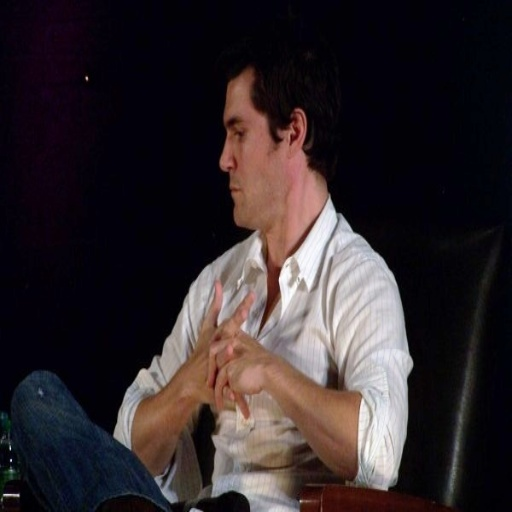hand: (184, 274, 256, 415), (203, 316, 267, 419)
